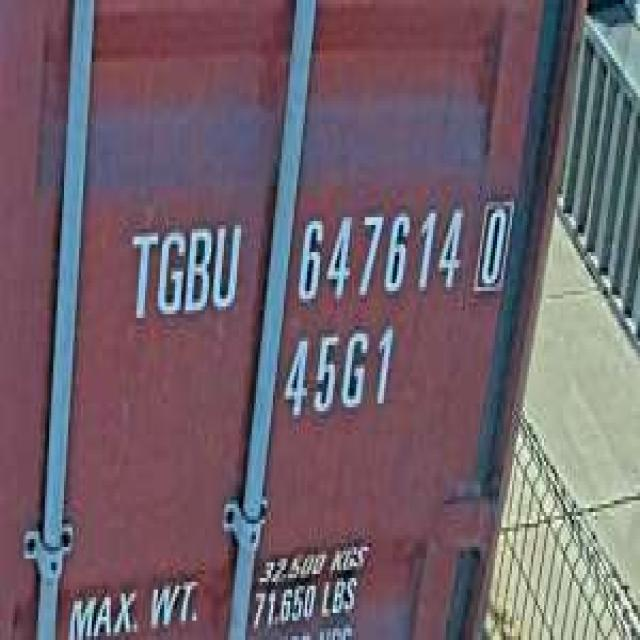dv: (469, 186, 516, 303)
owner: (124, 210, 243, 330)
serial: (288, 194, 465, 310)
size: (277, 318, 399, 431)
